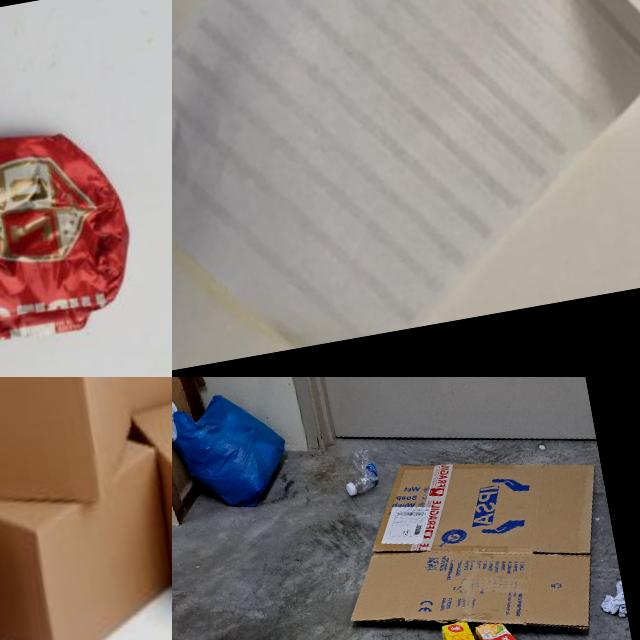caixinha: (474, 615, 531, 640), (441, 617, 486, 640)
garrafa plástica: (0, 377, 172, 640), (339, 446, 381, 496)
lata: (0, 115, 143, 362)
papel: (172, 0, 640, 377), (597, 579, 628, 621)
papelão: (327, 433, 619, 640)
sacola plástica: (172, 389, 290, 514)
tampa plástica: (345, 479, 357, 496)
